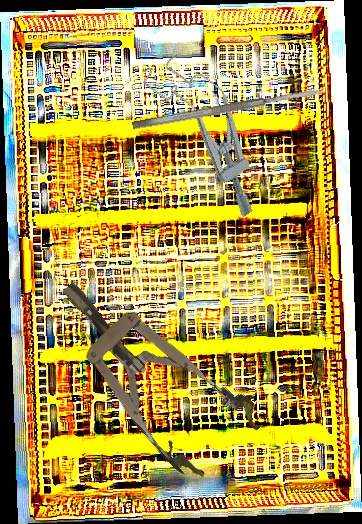Spatula Surgical: (131, 86, 325, 131)
Speculum: (32, 250, 269, 490), (137, 40, 286, 225)
